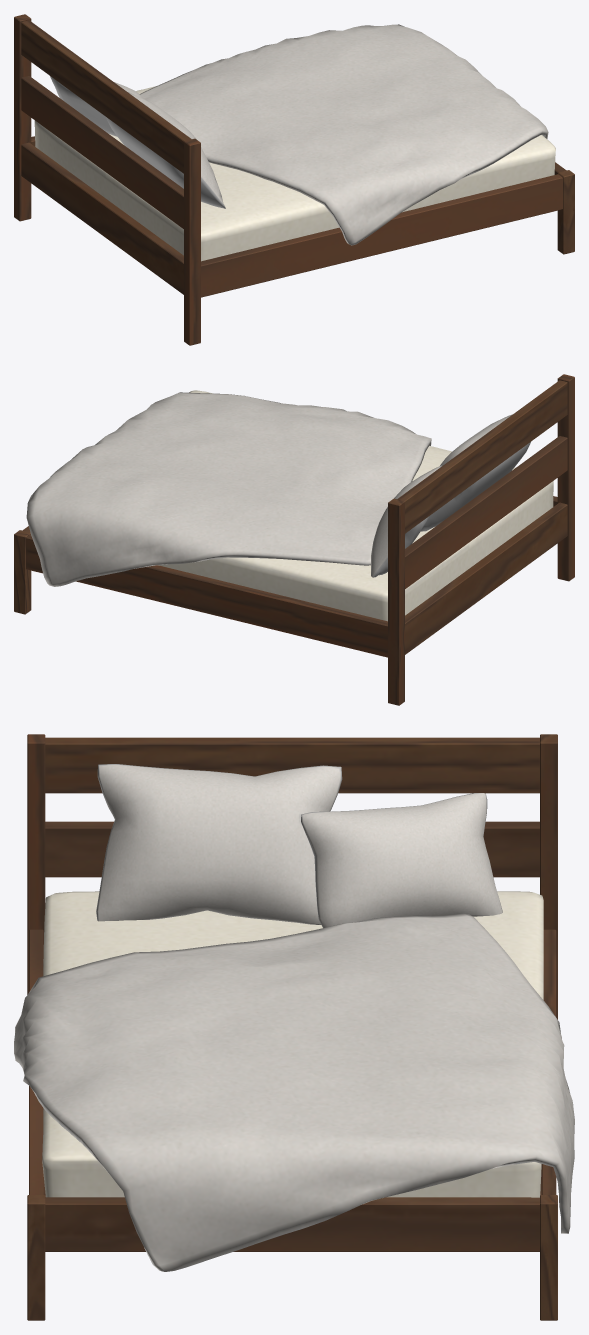
The model's file is Bed 1.glb.
3 renders of one model, top to bottom at view 1: azimuth 30°, elevation 25°; view 2: azimuth 150°, elevation 25°; view 3: azimuth 270°, elevation 25°, orthographic. The views are drawn at different scales.
Visible parts, largest first — view 1: Cube.004; view 2: Cube.004; view 3: Cube.004.
Part boxes in pixels (bbox=[...]): Cube.004: bbox=[14, 14, 574, 345]; Cube.004: bbox=[14, 374, 574, 705]; Cube.004: bbox=[14, 734, 574, 1320].
Size of the model in its own units: 2.05 by 0.9918 by 1.66.
1 material, 1 textured.
